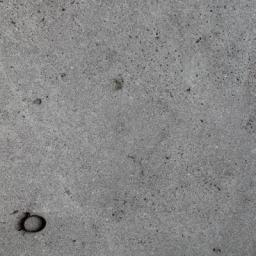FOD: (13, 209, 49, 237)
